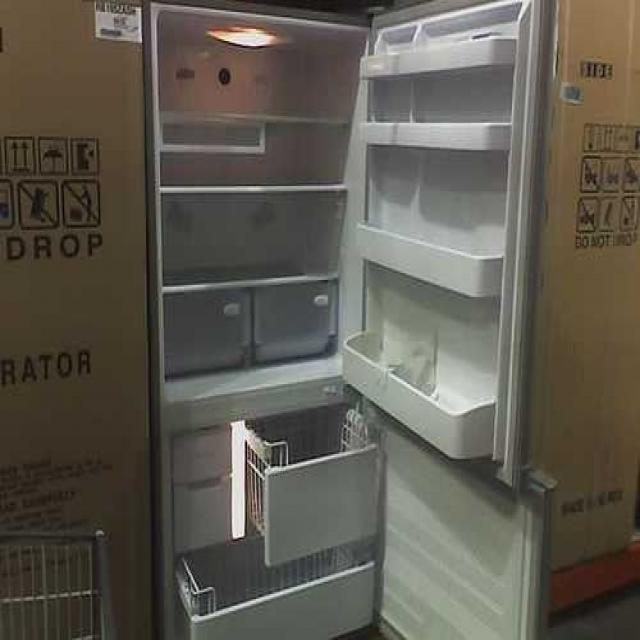refrigerator: (148, 2, 498, 640)
